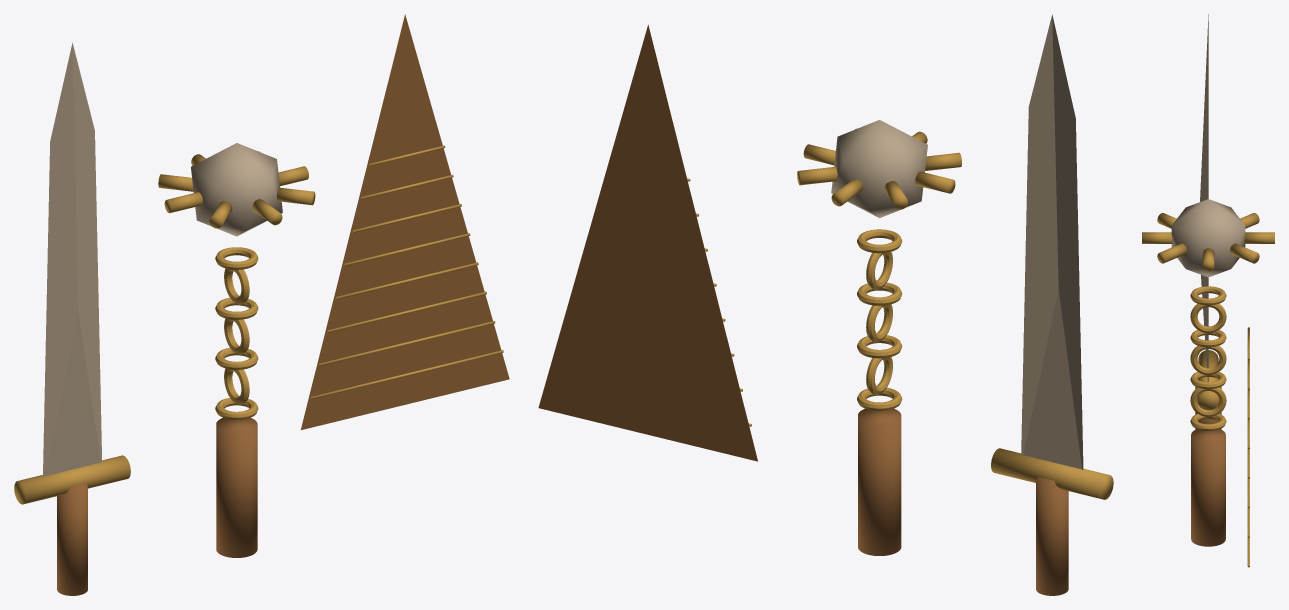
3 views of the same model, side by side, from view 1: azimuth 30°, elevation 25°; view 2: azimuth 150°, elevation 25°; view 3: azimuth 270°, elevation 25° (orthographic). The views are drawn at different scales.
Parts seen in each view (by area): view 1: TI042 / triangular decorated frame, TI042 / leaf shaped blade, TI042 / flail grip, TI042 / flail head, TI042 / sword grip, TI042 / decorative crossguard, TI042 / individual flail chain link.006, TI042 / individual metallic string, TI042 / individual flail chain link.005; view 2: TI042 / triangular decorated frame, TI042 / leaf shaped blade, TI042 / flail grip, TI042 / flail head, TI042 / sword grip, TI042 / decorative crossguard, TI042 / individual flail chain link.006; view 3: TI042 / flail grip, TI042 / flail head, TI042 / leaf shaped blade, TI042 / decorative crossguard, TI042 / individual flail chain link.001, TI042 / individual flail chain link.005, TI042 / individual flail chain link.003, TI042 / individual flail chain link.006, TI042 / individual flail chain link, TI042 / individual flail chain link.004, TI042 / individual flail chain link.002, TI042 / ornamental head spike.002 (+6 smaller).
Boxes of the visible parts, x1,y1,x2,y2 form: TI042 / triangular decorated frame: (301,14,509,429); TI042 / leaf shaped blade: (43,42,102,476); TI042 / flail grip: (216,417,257,557); TI042 / flail head: (191,143,282,236); TI042 / sword grip: (57,482,87,595); TI042 / decorative crossguard: (14,455,130,504); TI042 / individual flail chain link.006: (215,247,258,269); TI042 / individual metallic string: (310,350,503,399); TI042 / individual flail chain link.005: (224,268,249,304); TI042 / triangular decorated frame: (538,25,757,461); TI042 / leaf shaped blade: (1021,14,1083,469); TI042 / flail grip: (858,408,901,555); TI042 / flail head: (831,120,927,218); TI042 / sword grip: (1036,476,1068,595); TI042 / decorative crossguard: (991,448,1113,499); TI042 / individual flail chain link.006: (857,229,902,253); TI042 / flail grip: (1191,429,1225,546); TI042 / flail head: (1171,199,1245,277); TI042 / leaf shaped blade: (1200,14,1208,382); TI042 / decorative crossguard: (1198,350,1218,410); TI042 / individual flail chain link.001: (1190,387,1226,416); TI042 / individual flail chain link.005: (1190,303,1226,333); TI042 / individual flail chain link.003: (1190,345,1226,374); TI042 / individual flail chain link.006: (1190,286,1226,305); TI042 / individual flail chain link: (1190,413,1226,430); TI042 / individual flail chain link.004: (1190,330,1226,347); TI042 / individual flail chain link.002: (1190,372,1226,388); TI042 / ornamental head spike.002: (1244,232,1274,243).
Bounding box in the file's own units: 3.45 × 3.5 × 0.92.
